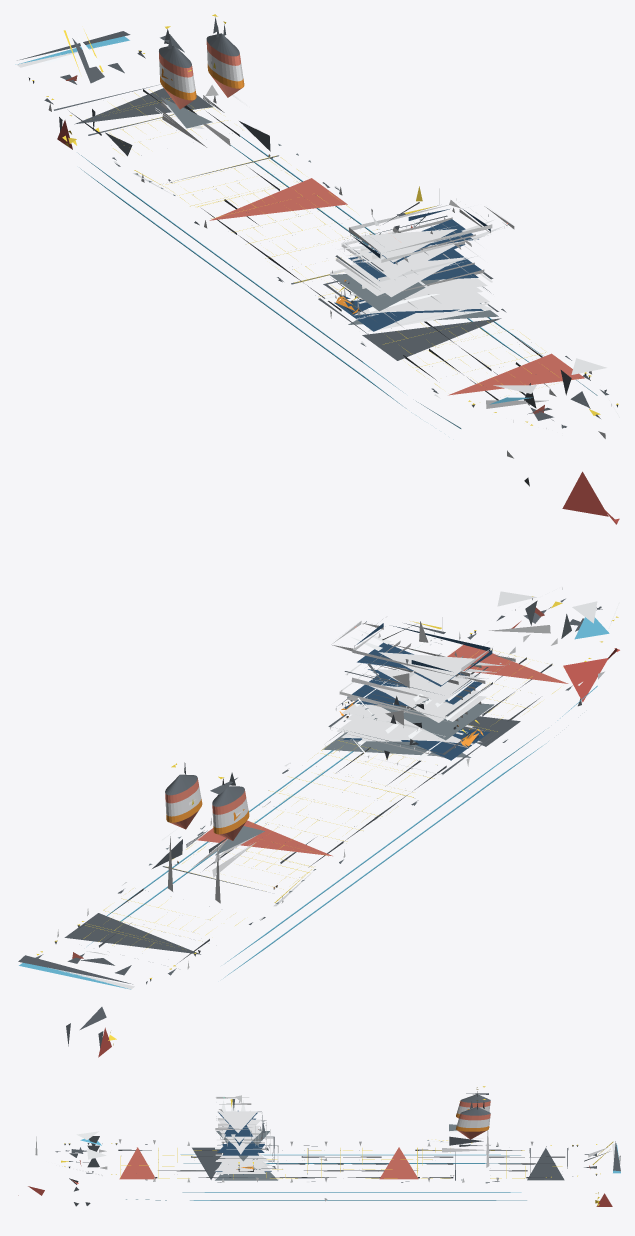
File: ship_32.glb
3 renders of one model, top to bottom at view 1: azimuth 30°, elevation 25°; view 2: azimuth 150°, elevation 25°; view 3: azimuth 270°, elevation 25°, orthographic. The views are drawn at different scales.
Visible parts, largest first — view 1: TrueHelm_Ship_32; view 2: TrueHelm_Ship_32; view 3: TrueHelm_Ship_32.
Boxes of the visible parts, x1,y1,x2,y2 form: TrueHelm_Ship_32: [15, 14, 619, 524]; TrueHelm_Ship_32: [18, 587, 619, 1057]; TrueHelm_Ship_32: [18, 1086, 620, 1206].
Bounding box in the file's own units: 0.1623 × 0.2061 × 0.9928.
